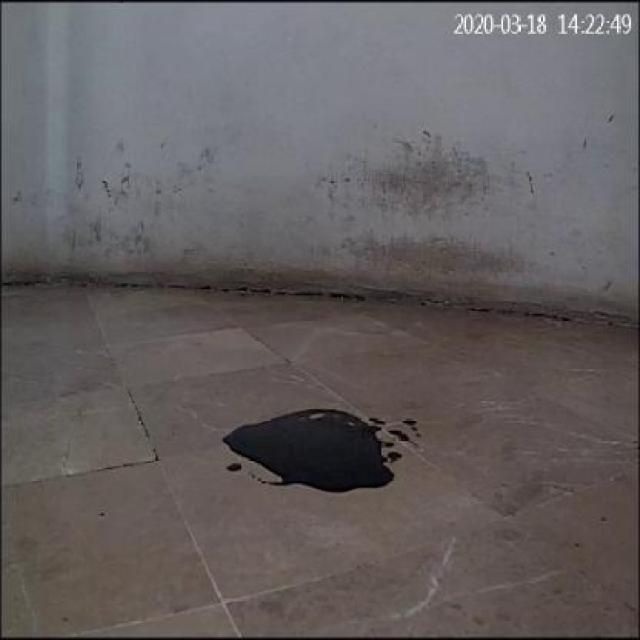spill: (222, 407, 410, 495)
